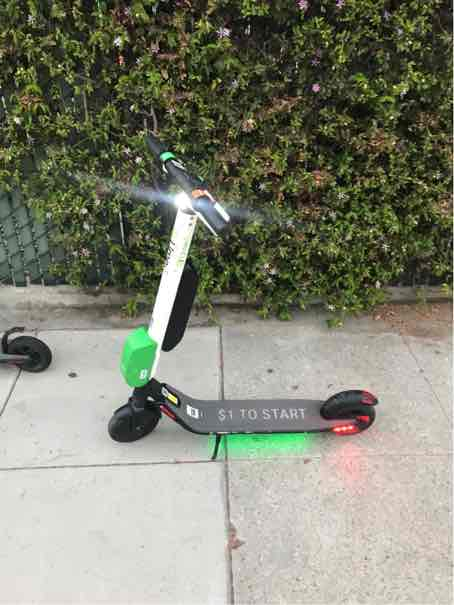scooter: (104, 104, 390, 453)
